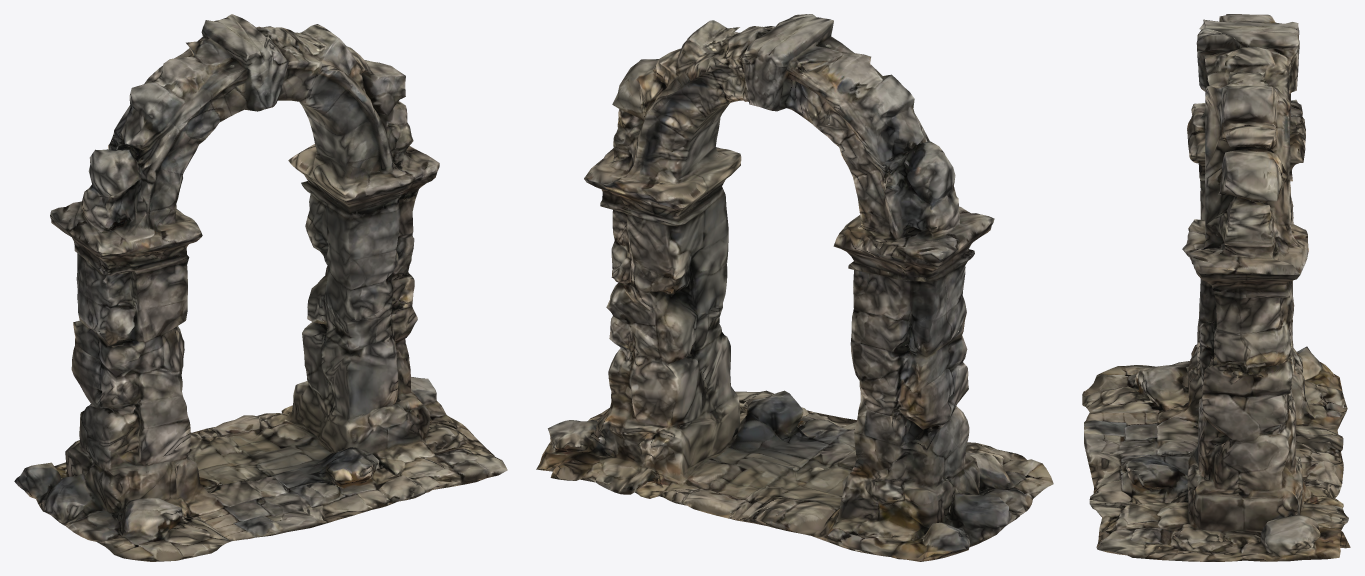
Rendered from arch_ruin.glb.
3 views of the same model, side by side, from view 1: azimuth 30°, elevation 25°; view 2: azimuth 150°, elevation 25°; view 3: azimuth 270°, elevation 25° (orthographic). The views are drawn at different scales.
Visible parts, largest first — view 1: arch_ruin; view 2: arch_ruin; view 3: arch_ruin.
Part boxes in pixels (bbox=[...]): arch_ruin: bbox=[14, 14, 507, 561]; arch_ruin: bbox=[536, 14, 1053, 561]; arch_ruin: bbox=[1082, 14, 1350, 561].
Size of the model in its own units: 13.87 by 14 by 7.86.
Materials: 1 (1 with a texture image).
